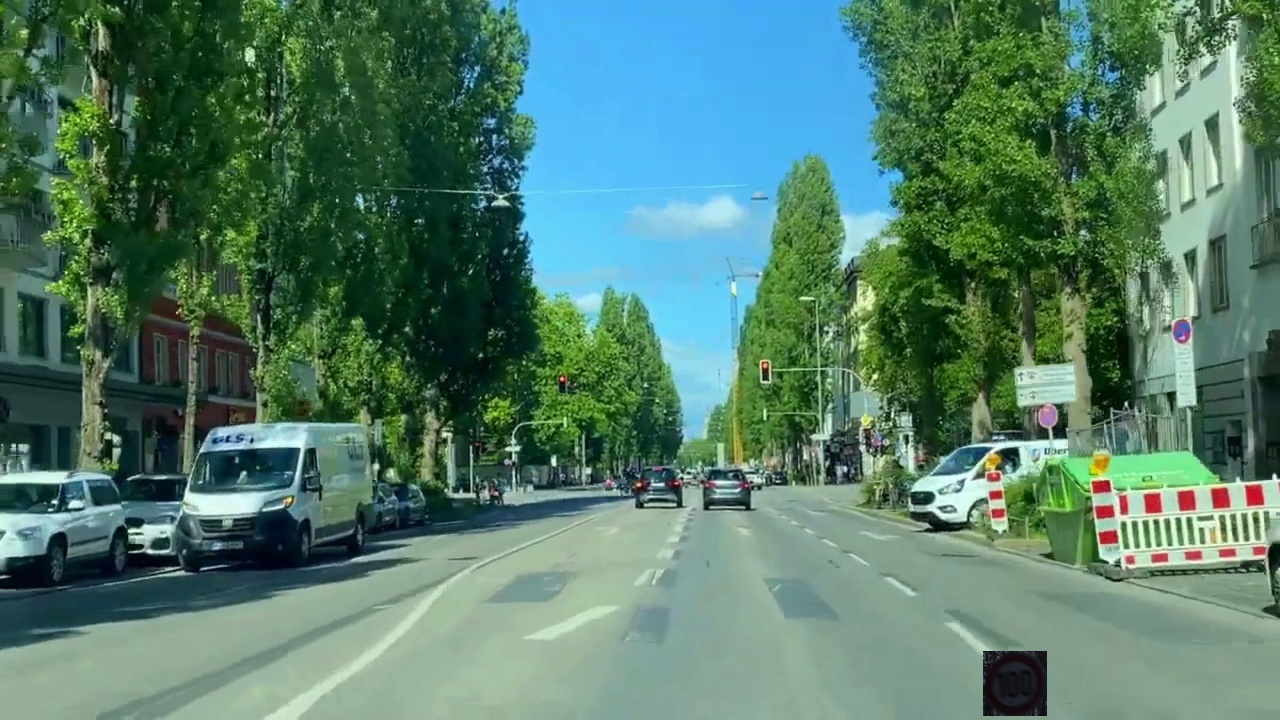Speed 100: (983, 651, 1047, 716)
